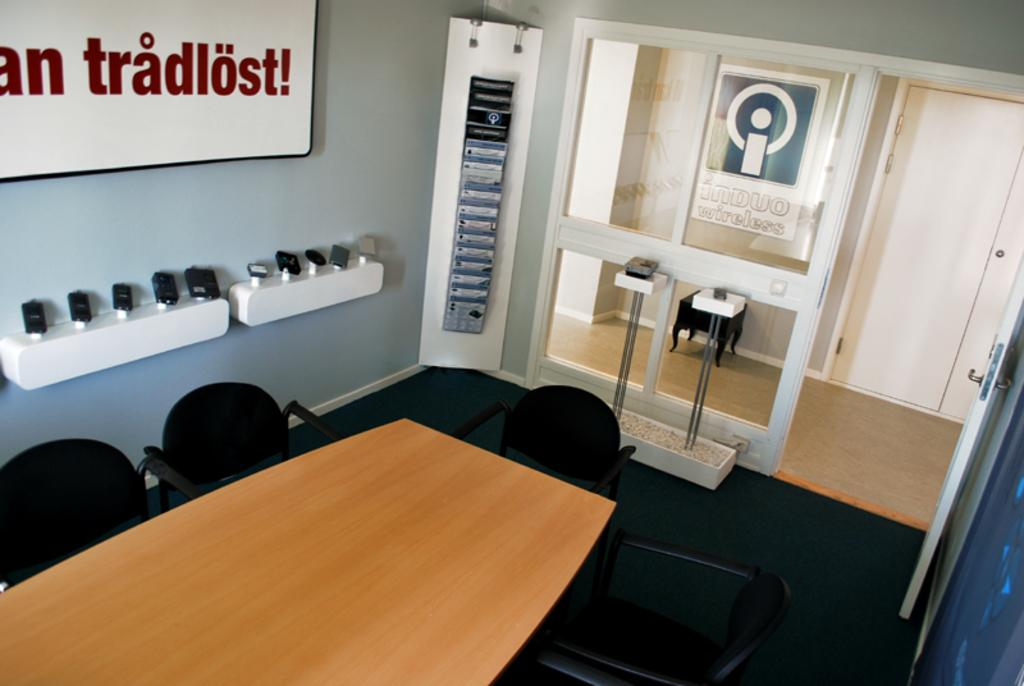handle: (989, 372, 1016, 400), (962, 361, 982, 390)
